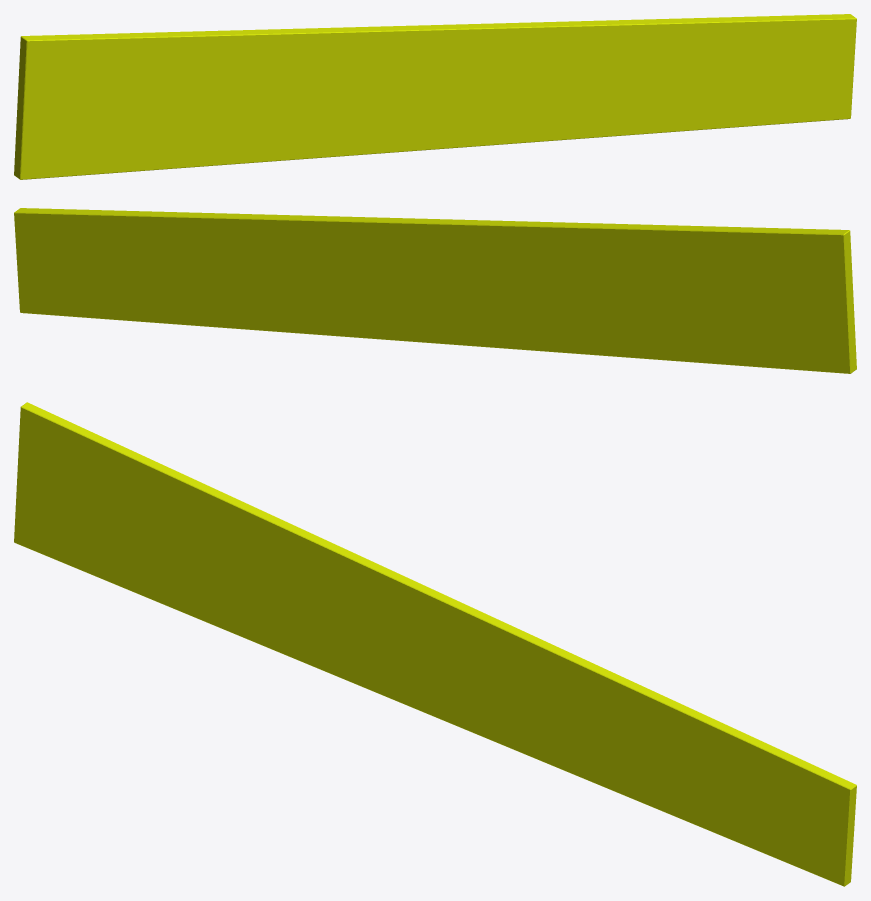
Rendered from Cabinet_Box_Left.fbx.
3 renders of one model, top to bottom at view 1: azimuth 30°, elevation 25°; view 2: azimuth 150°, elevation 25°; view 3: azimuth 330°, elevation 25°, orthographic.
Parts seen in each view (by area): view 1: Cabinet_Box_Left; view 2: Cabinet_Box_Left; view 3: Cabinet_Box_Left.
Part boxes in pixels (x1=…): Cabinet_Box_Left: x1=14, y1=14, x2=856, y2=179; Cabinet_Box_Left: x1=14, y1=208, x2=856, y2=373; Cabinet_Box_Left: x1=14, y1=402, x2=856, y2=886.
Size of the model in its own units: 131 by 41.76 by 1.77.
